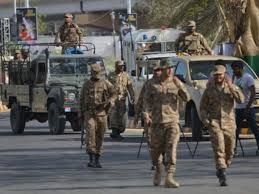uniform: (203, 62, 242, 178), (147, 59, 180, 180), (77, 55, 112, 164), (104, 59, 134, 139), (178, 14, 211, 58), (53, 9, 82, 52)
